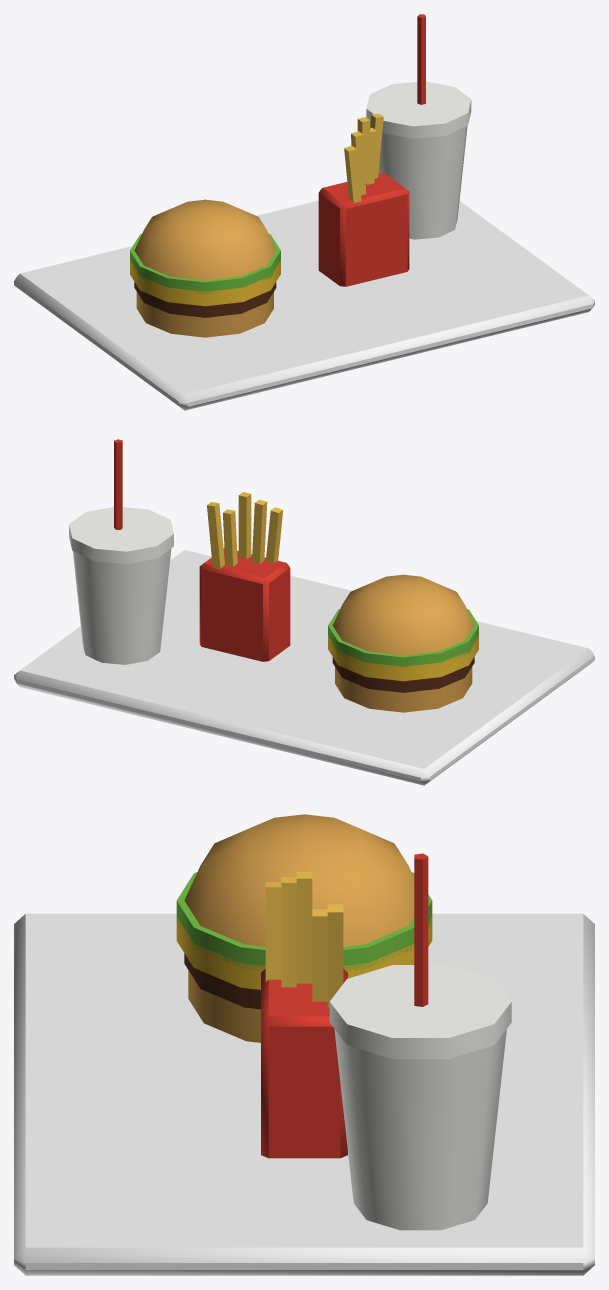
File: sh_foodset.glb
3 renders of one model, top to bottom at view 1: azimuth 30°, elevation 25°; view 2: azimuth 150°, elevation 25°; view 3: azimuth 270°, elevation 25°, orthographic. The views are drawn at different scales.
Parts seen in each view (by area): view 1: tray, b1, cup, fbox, fry, b3, b4, b2; view 2: tray, cup, b1, fbox, fry, b3, b4, b2; view 3: tray, cup, b1, fbox, fry, b4, b3, b2.
Part boxes in pixels (x1,y1,x2,y2): tray: (14,200,594,410); b1: (134,199,276,337); cup: (366,81,471,239); fbox: (318,14,425,286); fry: (344,113,383,202); b3: (130,260,280,306); b4: (130,234,280,294); b2: (134,282,276,317); tray: (14,550,594,785); cup: (69,507,173,664); b1: (332,574,474,712); fbox: (114,439,290,661); fry: (207,492,282,569); b3: (328,635,478,681); b4: (328,609,478,668); b2: (332,657,474,692); tray: (14,913,594,1275); cup: (329,965,511,1230); b1: (184,814,414,1042); fbox: (261,853,428,1158); fry: (265,872,343,1008); b4: (176,872,432,970); b3: (176,917,432,989); b2: (184,953,260,1009).
Bounding box in the file's own units: 0.42 × 0.215 × 0.3.
